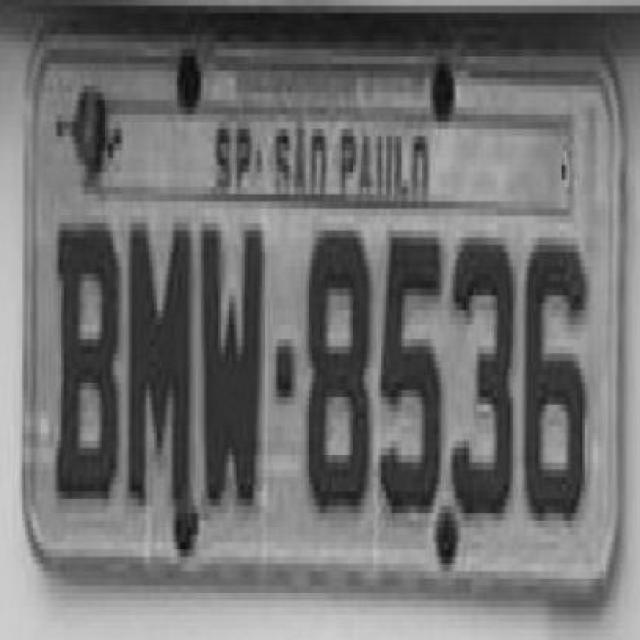licenseplate: (9, 10, 631, 627)
